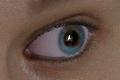eye: (58, 25, 85, 54)
